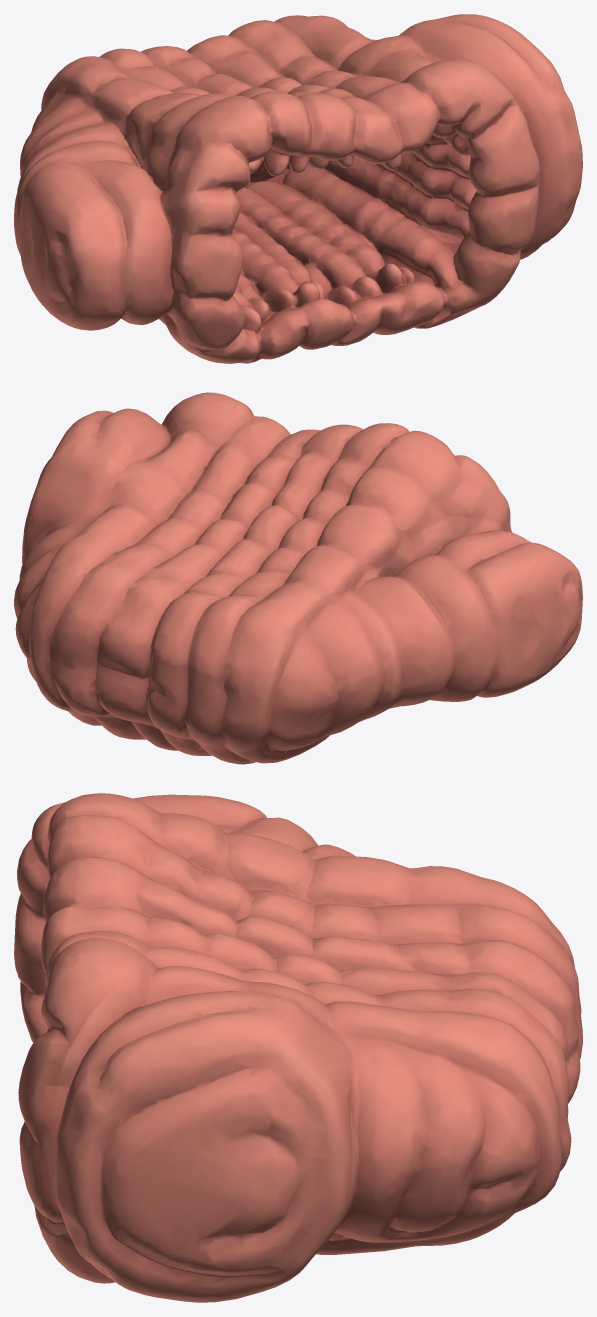
File: Env_SmallIntestineTunnel.glb
3 renders of one model, top to bottom at view 1: azimuth 30°, elevation 25°; view 2: azimuth 150°, elevation 25°; view 3: azimuth 270°, elevation 25°, orthographic. The views are drawn at different scales.
Size of the model in its own units: 1.9 by 0.9403 by 1.38.
Materials: 1 (1 with a texture image).
